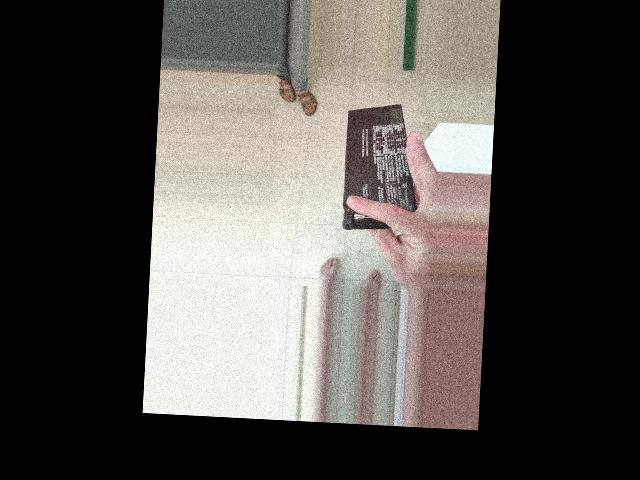chocolate: (269, 133, 406, 213)
